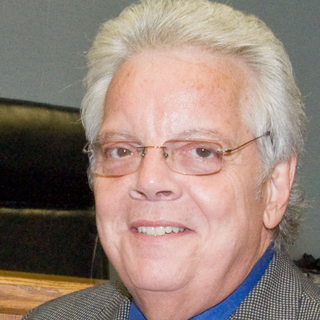eye: (177, 136, 226, 165), (99, 139, 142, 165)
